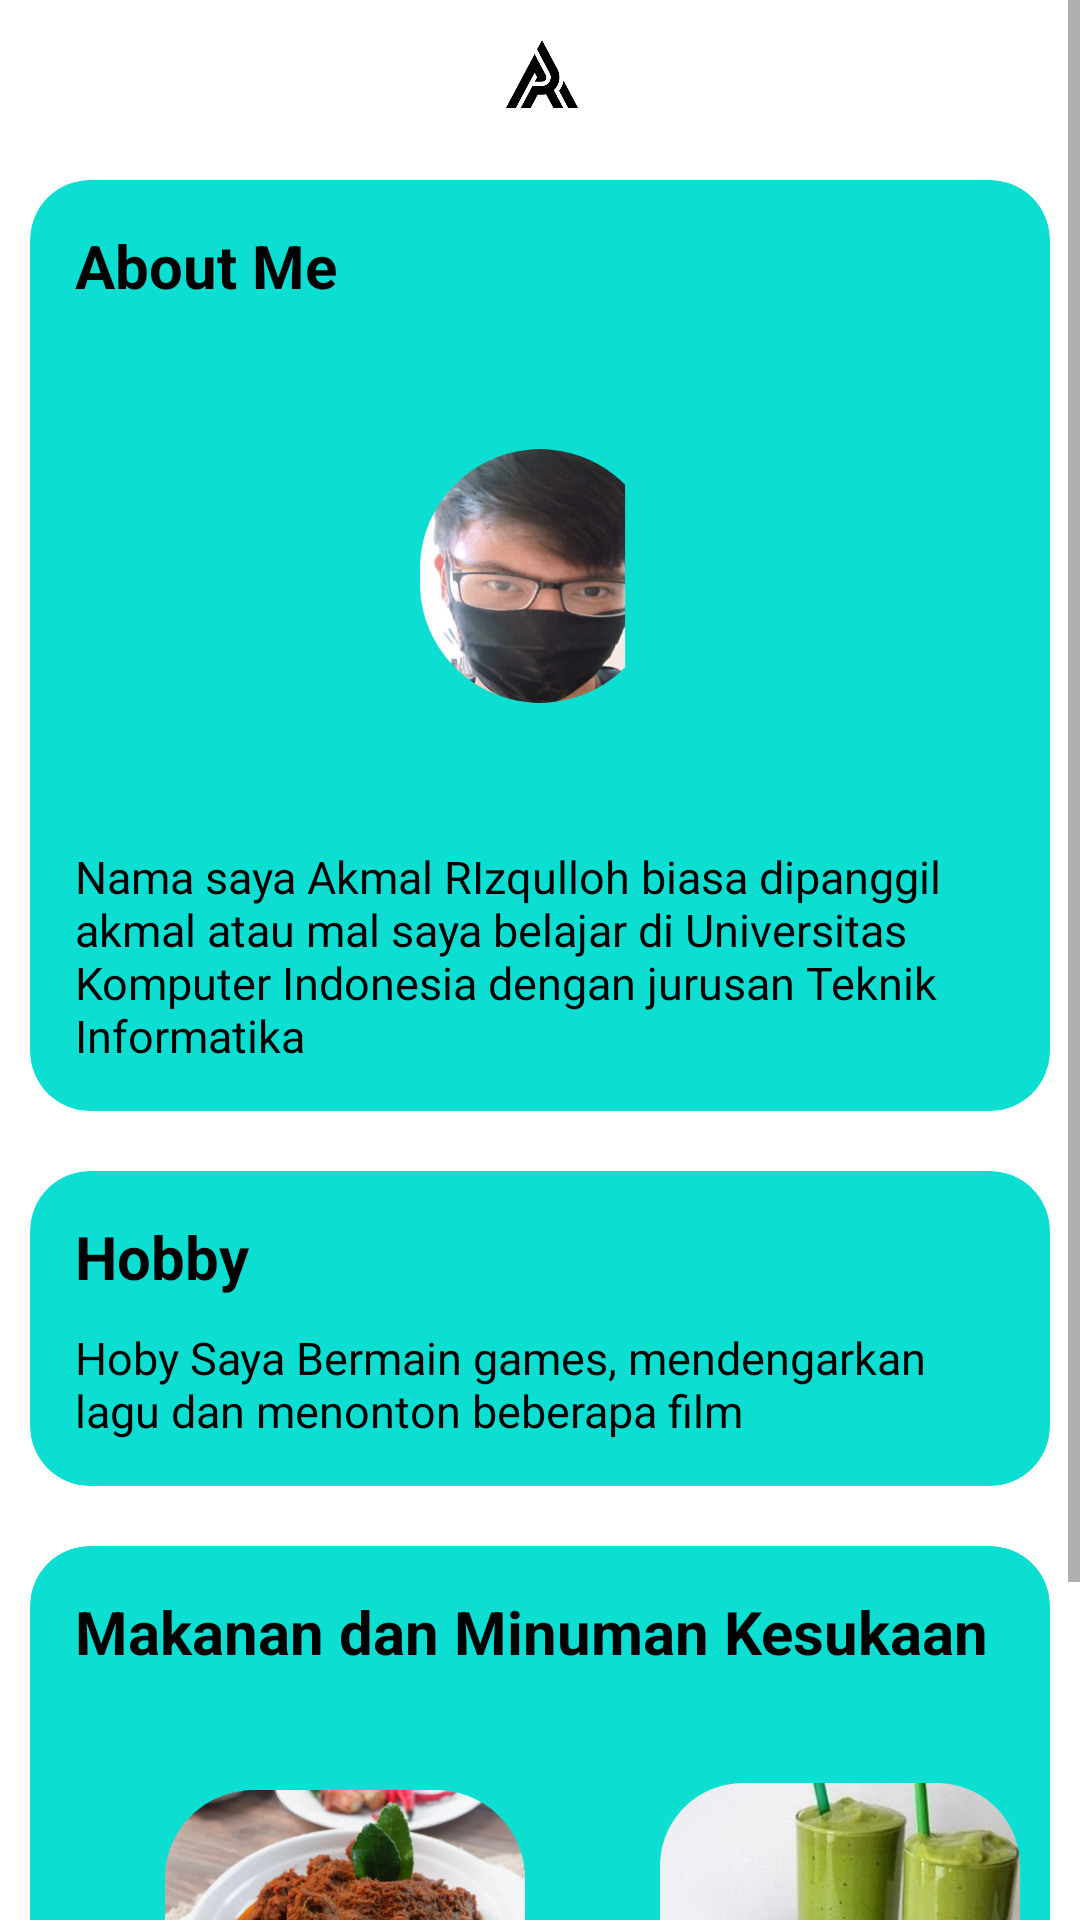

Icons on this 1080*1920 Android screen, each with its box as (x1, y1, x2, y2):
profile: (420, 449, 626, 703)
